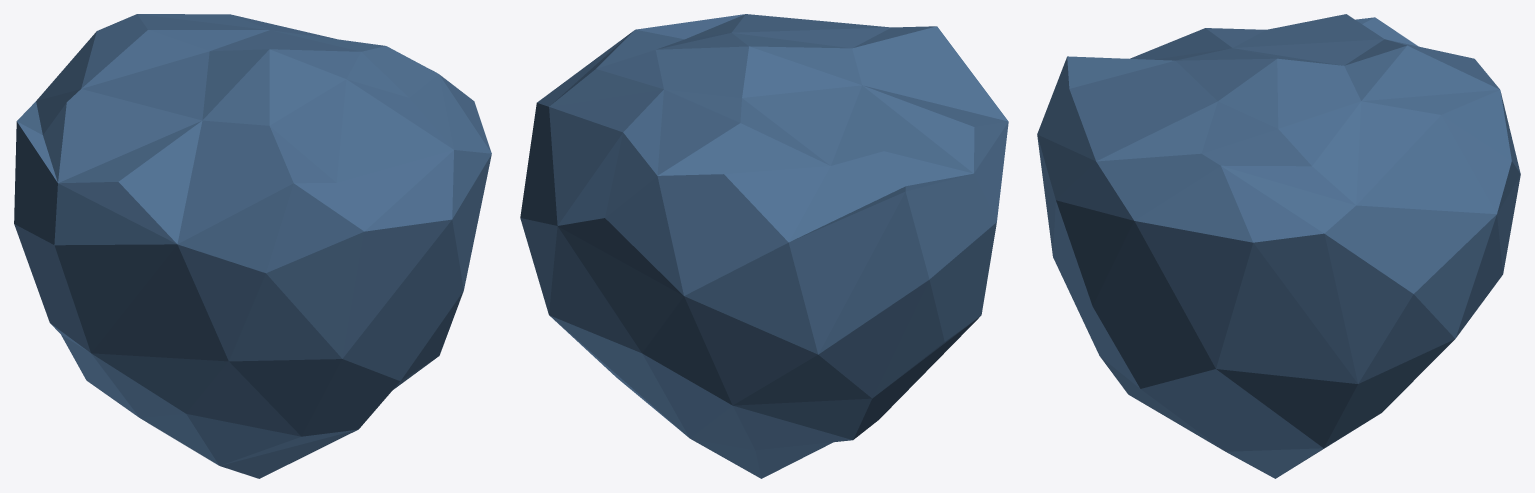
File: island Nugget.fbx
3 renders of one model, left to right at view 1: azimuth 30°, elevation 25°; view 2: azimuth 150°, elevation 25°; view 3: azimuth 270°, elevation 25°, orthographic.
Visible parts, largest first — view 1: Icosphere.002; view 2: Icosphere.002; view 3: Icosphere.002.
Part boxes in pixels (x1=…): Icosphere.002: x1=14, y1=14, x2=491, y2=478; Icosphere.002: x1=520, y1=14, x2=1008, y2=478; Icosphere.002: x1=1037, y1=14, x2=1520, y2=478.
Bounding box in the file's own units: 148 × 143 × 147.
